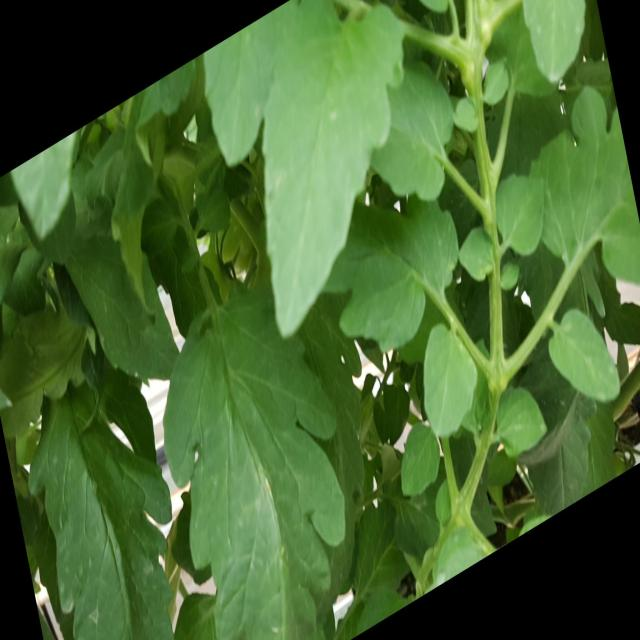Healthy Leaf: (547, 306, 624, 408), (421, 322, 480, 446), (493, 171, 547, 260), (497, 381, 551, 463), (400, 421, 444, 504)
